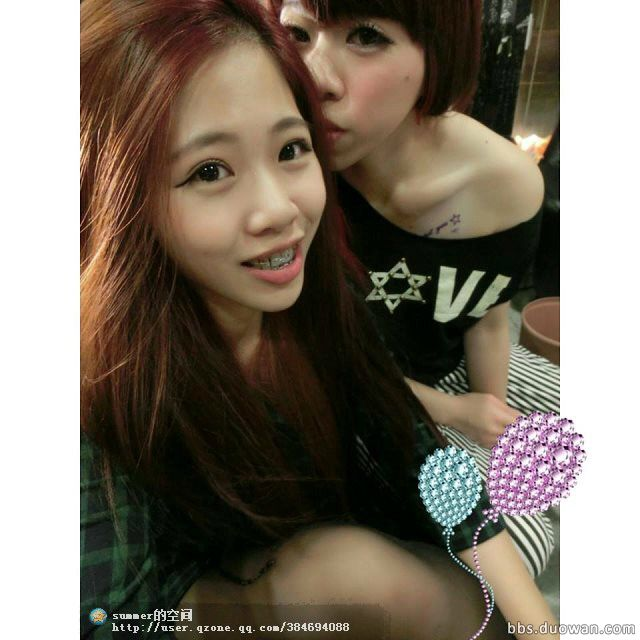face: (147, 46, 327, 313), (270, 1, 422, 171)
